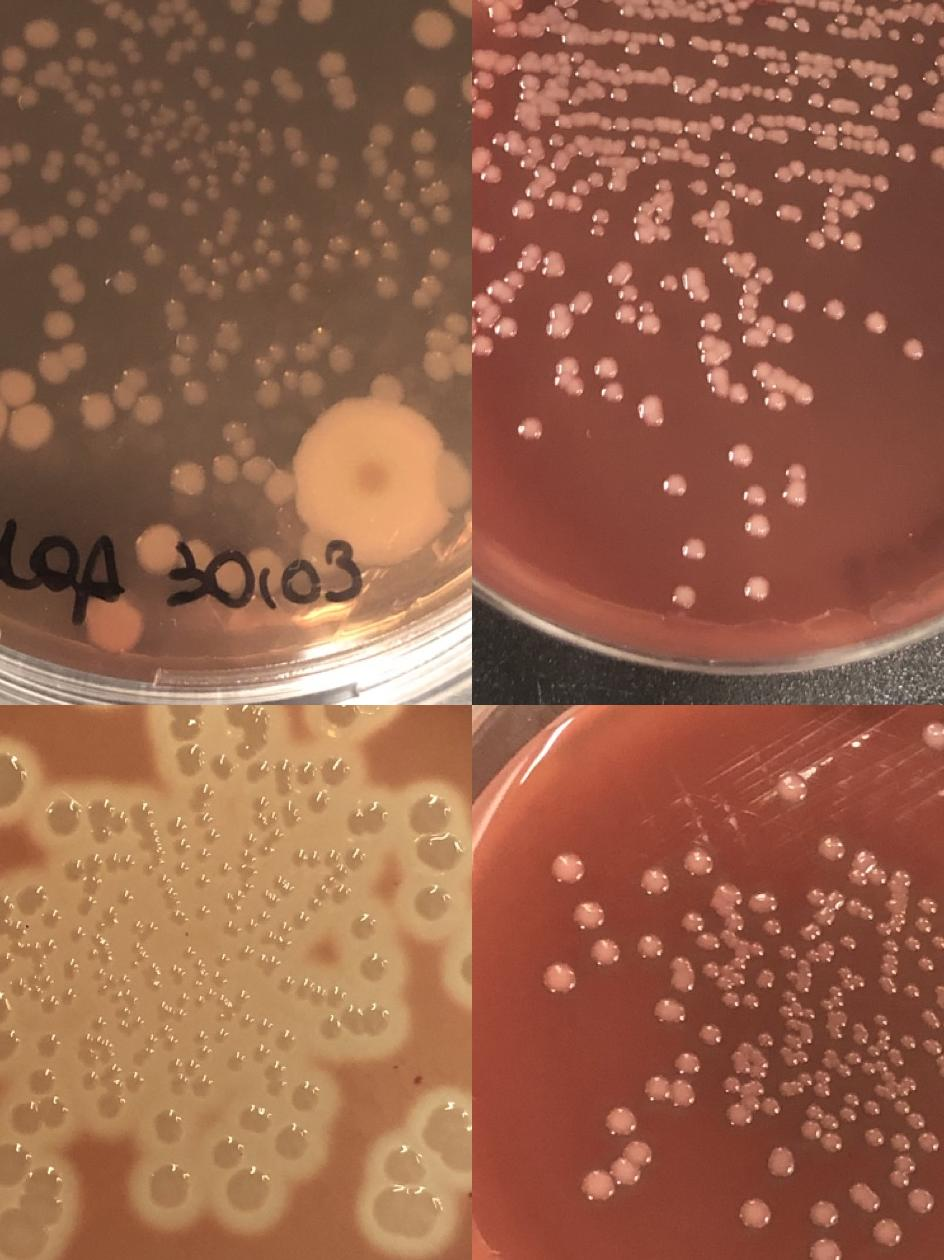pddamselae: (374, 1146, 445, 1242), (0, 1141, 62, 1228), (822, 1012, 894, 1080), (778, 939, 837, 1020), (725, 1058, 783, 1128), (801, 1092, 860, 1156), (423, 1100, 472, 1177), (802, 888, 845, 943), (903, 895, 939, 953), (226, 1167, 270, 1213), (148, 1162, 192, 1208), (249, 218, 287, 270), (611, 1140, 652, 1185), (642, 1073, 694, 1108), (828, 965, 868, 1010), (681, 910, 720, 956), (12, 1096, 66, 1128), (408, 794, 448, 835), (272, 1120, 312, 1160), (414, 882, 454, 922), (79, 390, 117, 432), (0, 983, 19, 1064), (171, 458, 209, 498), (413, 8, 451, 48), (702, 959, 748, 992), (402, 80, 438, 120), (0, 751, 24, 809), (209, 1132, 245, 1170), (394, 200, 430, 237), (0, 367, 33, 407), (425, 834, 461, 870), (43, 800, 79, 836), (342, 1006, 391, 1032), (150, 1107, 186, 1142), (787, 1070, 831, 1098), (848, 1182, 882, 1215), (668, 956, 696, 996), (930, 877, 944, 953), (786, 1029, 816, 1064), (893, 1099, 925, 1130), (295, 0, 333, 24), (849, 850, 875, 885), (292, 1078, 320, 1106), (873, 1218, 901, 1246), (810, 1199, 838, 1227), (906, 1188, 934, 1216), (584, 1172, 612, 1200), (605, 1108, 633, 1136), (544, 964, 572, 992), (590, 938, 618, 966), (635, 932, 663, 960), (574, 903, 602, 931), (748, 888, 776, 916), (554, 854, 582, 882), (683, 850, 711, 878), (777, 774, 805, 802), (359, 955, 388, 982), (320, 705, 356, 726), (740, 1200, 767, 1228), (653, 1001, 681, 1028), (639, 868, 667, 895), (889, 1156, 912, 1188), (245, 1106, 273, 1132), (97, 1092, 125, 1118), (28, 1066, 56, 1092), (34, 1031, 62, 1057), (352, 914, 380, 940), (361, 804, 389, 830), (127, 800, 155, 826), (766, 1148, 794, 1174), (20, 883, 48, 908), (322, 759, 350, 784), (880, 962, 899, 997), (846, 900, 875, 922), (166, 705, 205, 721), (809, 1238, 837, 1260), (916, 1130, 940, 1154), (862, 1124, 886, 1148), (753, 968, 777, 992), (816, 837, 839, 860), (698, 1024, 722, 1046), (925, 722, 944, 749), (288, 280, 308, 304), (234, 270, 254, 292), (294, 258, 314, 280), (430, 247, 450, 269), (228, 247, 248, 269), (380, 240, 400, 262), (195, 236, 215, 258), (292, 234, 312, 256), (368, 218, 388, 240), (282, 210, 302, 232), (431, 204, 451, 226), (354, 197, 374, 219), (178, 196, 198, 218), (255, 173, 274, 195), (720, 993, 740, 1013), (901, 984, 921, 1004), (376, 276, 394, 298), (352, 247, 370, 269), (227, 705, 255, 719), (723, 1076, 742, 1096), (917, 956, 936, 976), (742, 992, 761, 1011), (892, 1131, 910, 1151), (899, 1032, 917, 1052), (761, 918, 781, 936), (839, 934, 858, 952), (861, 1098, 879, 1116), (924, 1038, 942, 1056), (756, 1031, 774, 1049), (894, 868, 912, 886), (882, 939, 900, 956), (726, 914, 744, 931), (678, 1056, 694, 1074), (870, 868, 886, 886), (778, 946, 798, 960), (827, 1028, 845, 1042), (750, 942, 764, 960), (882, 1088, 898, 1102), (804, 1006, 816, 1020), (940, 1062, 944, 1080)
vharveyi: (803, 194, 864, 254), (738, 265, 776, 352), (608, 282, 664, 340), (717, 81, 794, 106), (869, 82, 914, 122), (593, 354, 626, 406), (472, 201, 503, 256), (773, 157, 826, 186), (710, 40, 750, 70), (744, 572, 774, 604), (586, 206, 612, 242), (472, 69, 498, 105), (571, 170, 606, 196), (831, 0, 880, 18), (763, 48, 793, 77), (761, 388, 789, 416), (726, 440, 756, 466), (741, 481, 769, 508), (686, 174, 714, 201), (662, 472, 689, 499), (668, 583, 696, 609), (678, 536, 706, 562), (743, 512, 771, 538), (516, 415, 544, 441), (552, 351, 580, 377), (900, 336, 928, 362), (771, 320, 799, 346), (863, 309, 891, 335), (697, 308, 725, 334), (820, 295, 848, 321), (478, 164, 506, 190), (773, 202, 806, 224), (490, 18, 520, 42), (782, 458, 809, 484), (493, 314, 520, 340), (782, 288, 809, 314), (509, 198, 536, 224), (640, 136, 660, 170), (706, 196, 734, 220), (516, 50, 544, 74), (822, 12, 850, 36), (656, 270, 682, 294), (870, 171, 896, 195), (894, 142, 920, 166), (744, 188, 770, 211), (502, 270, 528, 292), (727, 382, 750, 406), (791, 14, 813, 34), (547, 130, 567, 150), (920, 68, 940, 88), (690, 284, 712, 302), (653, 224, 675, 242), (653, 174, 673, 193), (608, 87, 628, 106), (807, 92, 826, 111), (657, 31, 676, 50), (868, 74, 888, 92), (622, 40, 642, 58), (909, 28, 929, 46), (885, 26, 905, 44), (723, 14, 743, 31), (740, 109, 756, 126), (719, 178, 735, 194), (832, 56, 847, 71), (565, 7, 580, 22), (808, 120, 822, 135), (817, 76, 831, 90), (570, 50, 584, 64), (719, 150, 731, 164), (872, 0, 914, 4), (472, 312, 478, 338), (935, 35, 944, 50)
